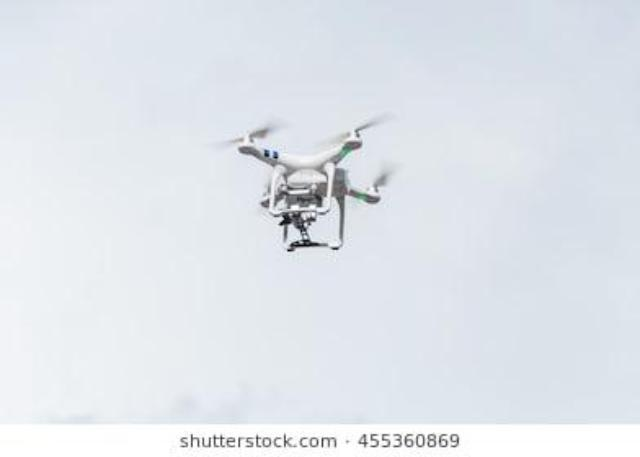drone: (163, 69, 463, 295)
